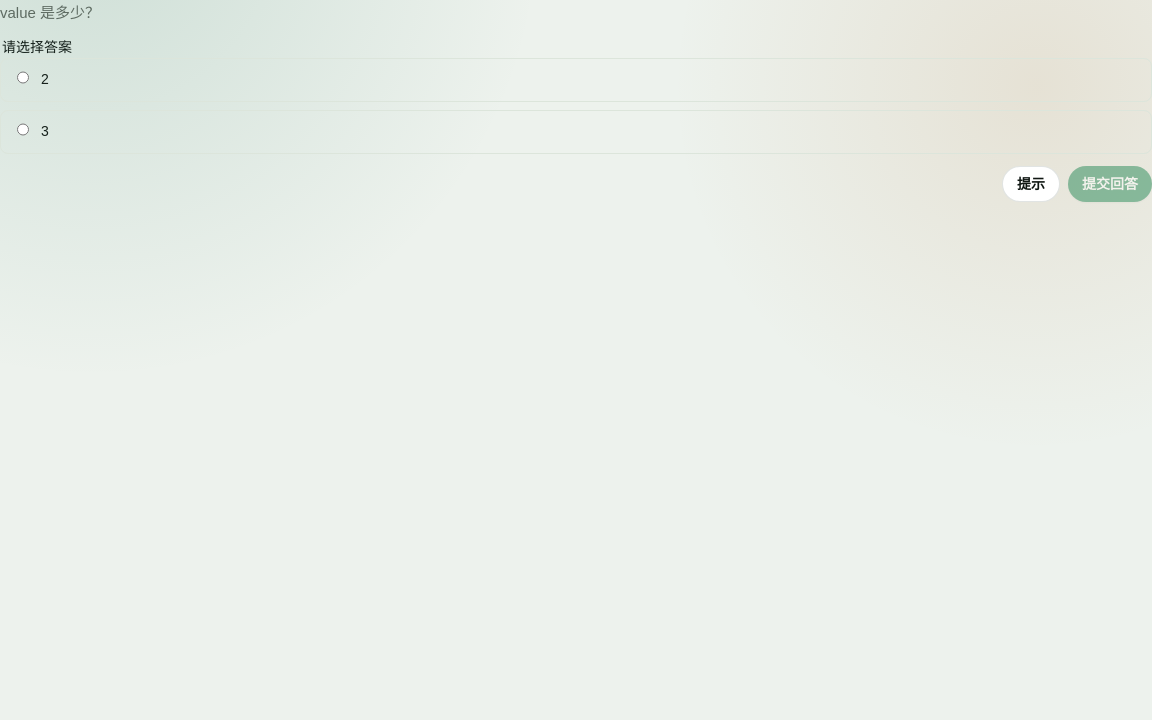
KnowledgeCheckArtifact › opens the overlay without reflow, pages manually, and closes on Escape
Click the button "提示".
click(1031, 184)  # box [1002, 166, 1060, 202]
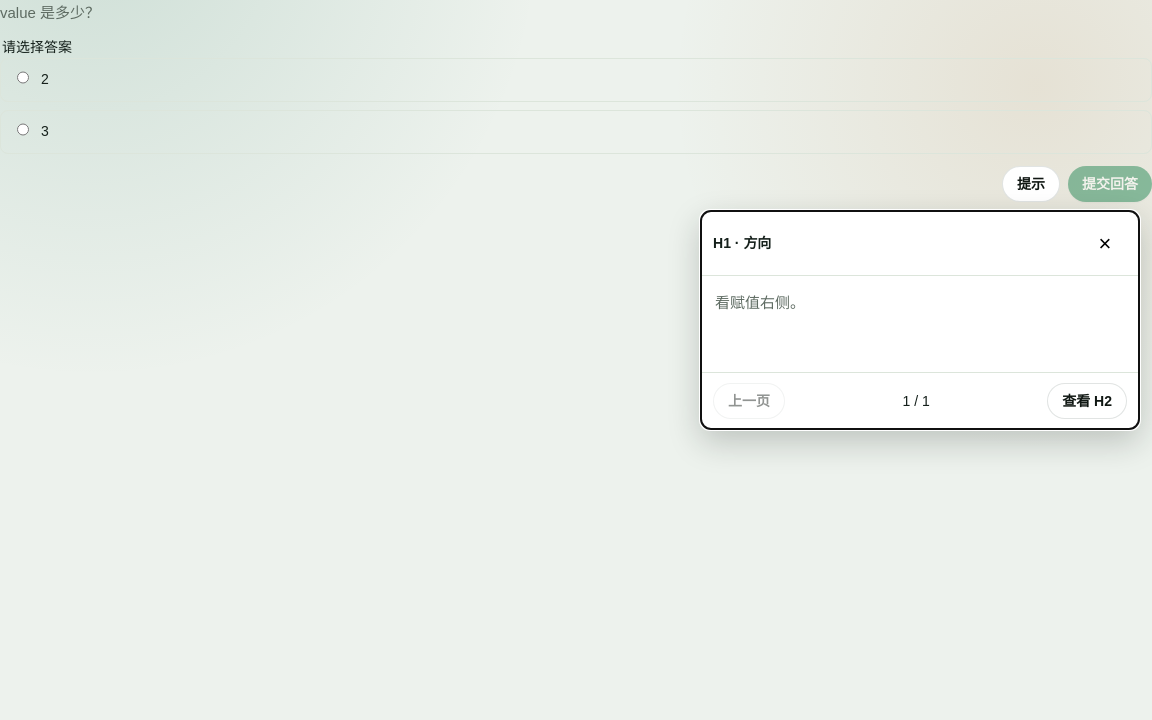
Check: the dialog named "分级提示" is shown, box [700, 210, 1140, 430]
Press Escape
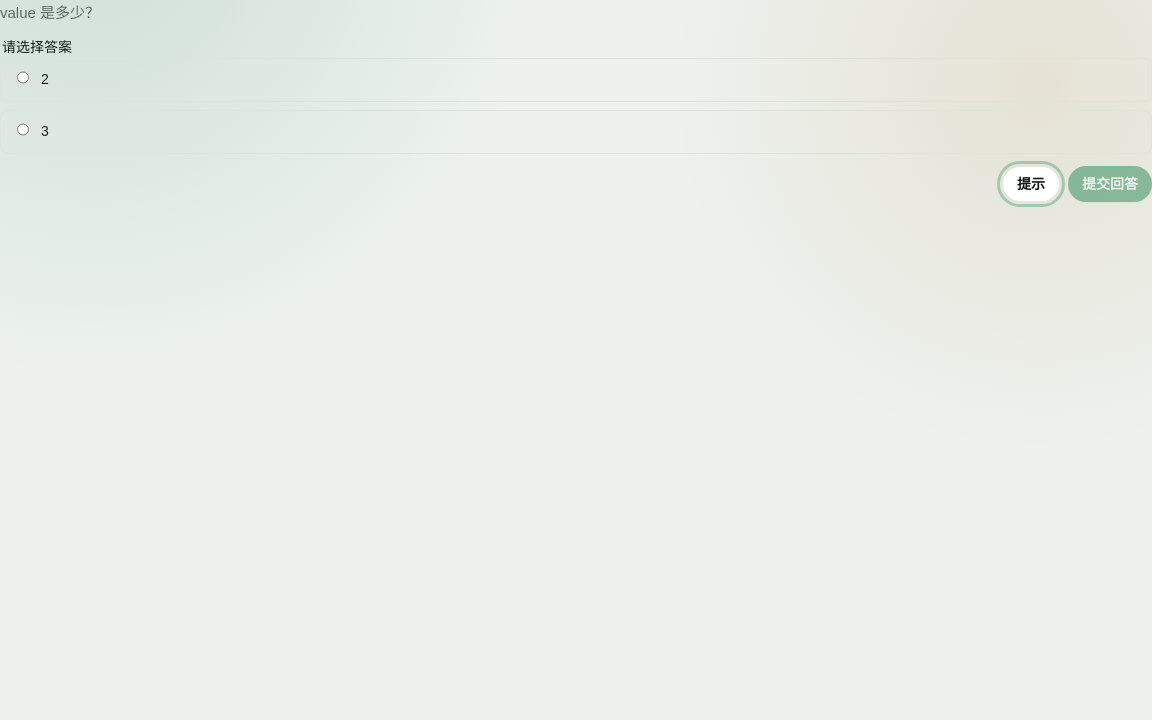
Check: the dialog "分级提示" is gone
